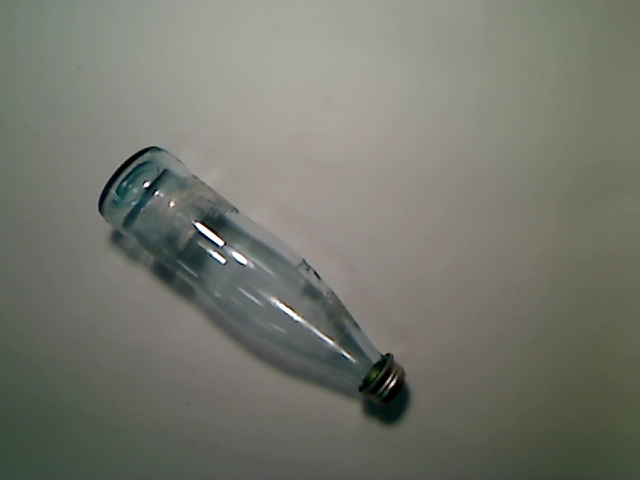bottle: (98, 146, 407, 408)
